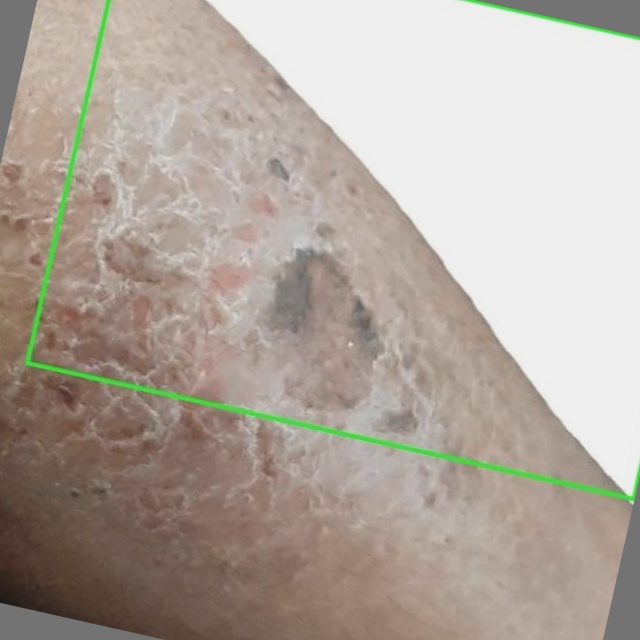Eczema: (27, 0, 639, 499)
